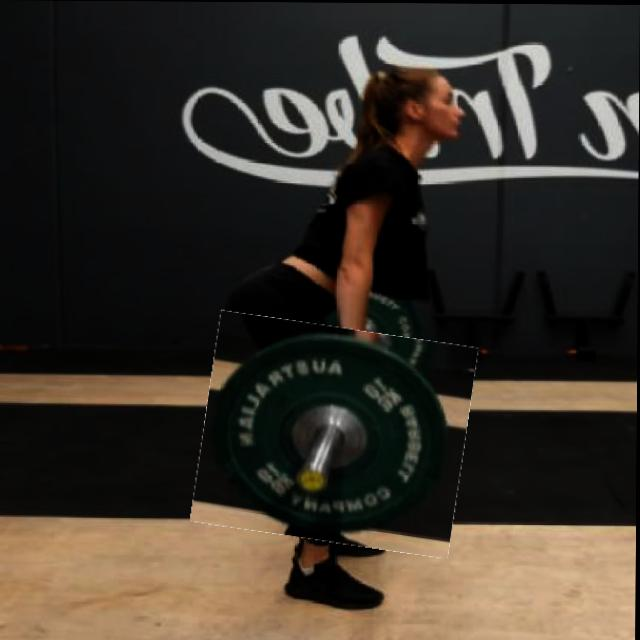barbell: (199, 319, 473, 550)
